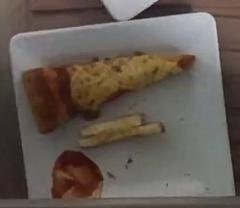fries: (77, 112, 164, 147)
pizza: (22, 52, 195, 133)
